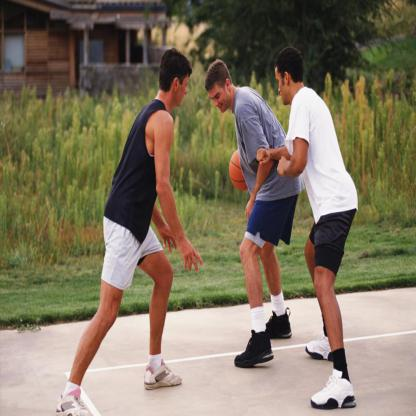face: (277, 68, 293, 105), (210, 86, 230, 113), (175, 77, 189, 106)
